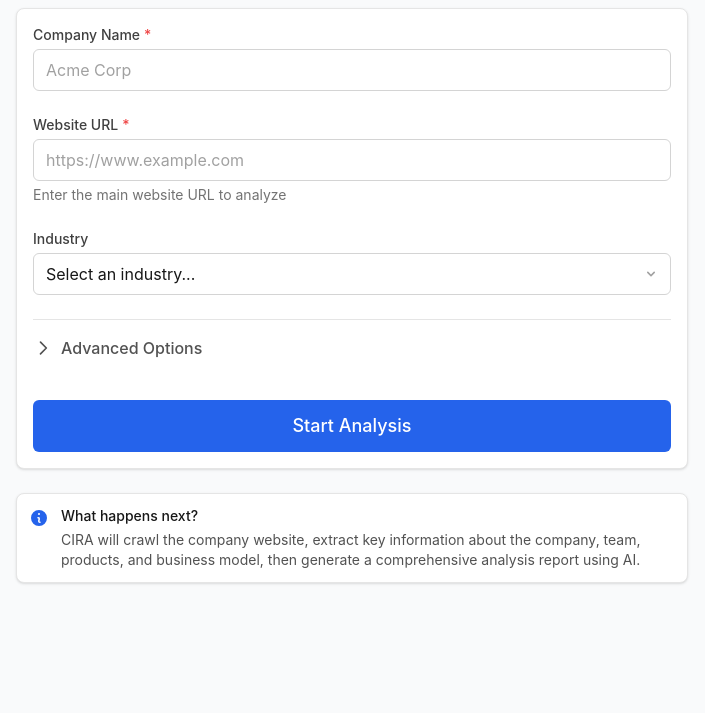
Test: AddCompany Advanced Options › quick mode presets correct values
This screenshot has width=705, height=713.
# Open advanced options
Click the button "Advanced Options". click: (118, 348)
box: left=33, top=336, right=202, bottom=360
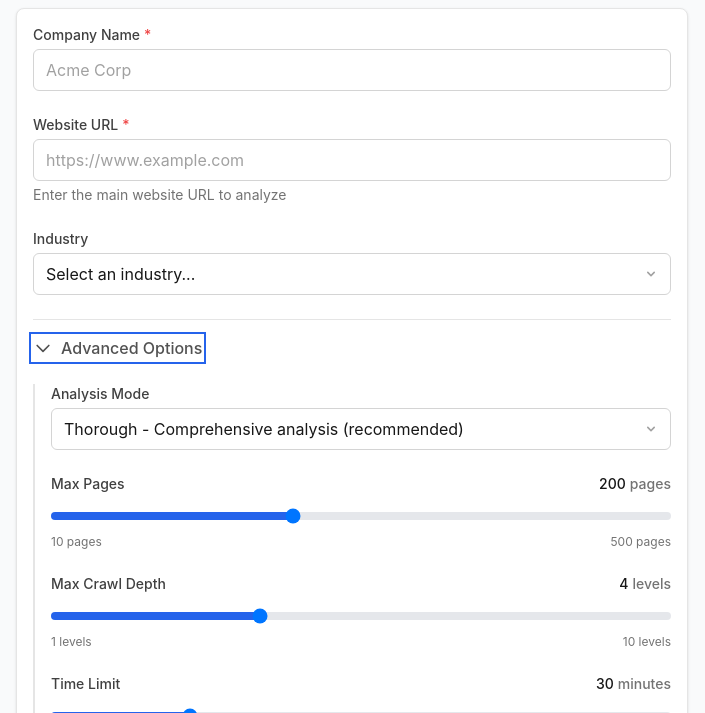
# Select 'quick' analysis mode
Select "Quick - Faster, less detailed analysis" in the dropdown labelled "Analysis Mode". click: (361, 429)
box: left=51, top=408, right=671, bottom=450
(page scrolled)
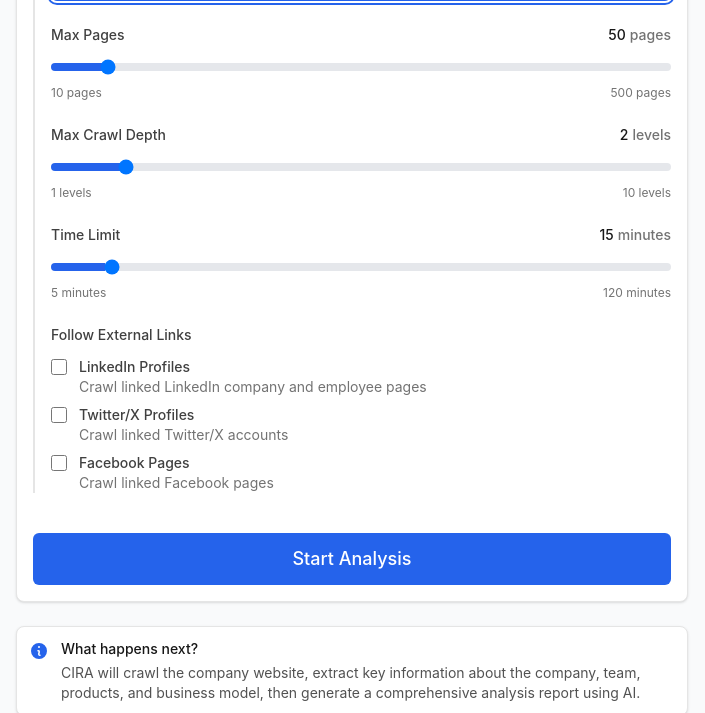
expect the slider labelled "Max Pages" holds "50": met, box left=51, top=63, right=671, bottom=71
expect the checkbox labelled "LinkedIn Profiles" is not checked: met, box left=51, top=359, right=67, bottom=375
